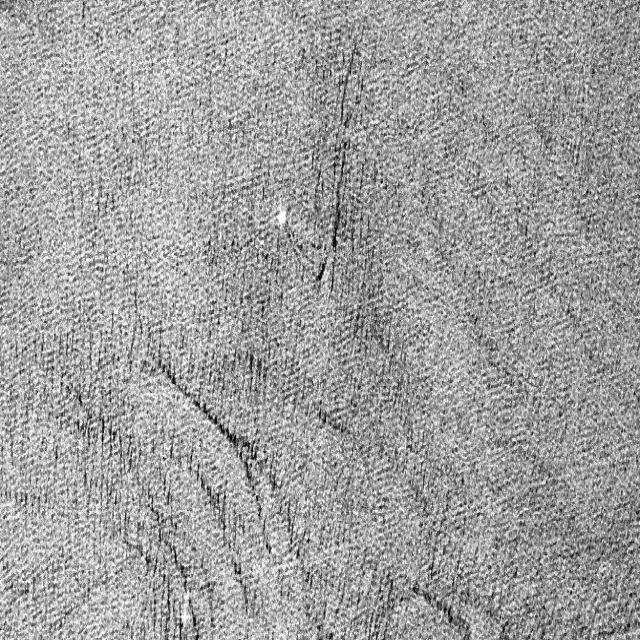oil-spill: (145, 329, 290, 607), (302, 42, 369, 292), (121, 479, 212, 636), (259, 482, 337, 634), (362, 558, 472, 640)
ship: (273, 202, 292, 234)
